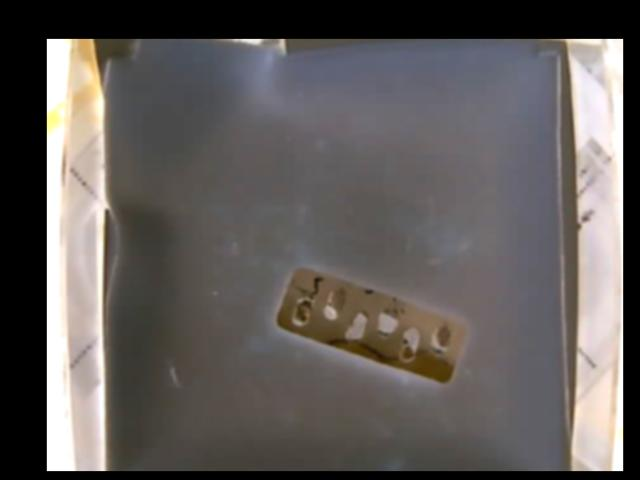Medicine: (276, 267, 466, 384)
